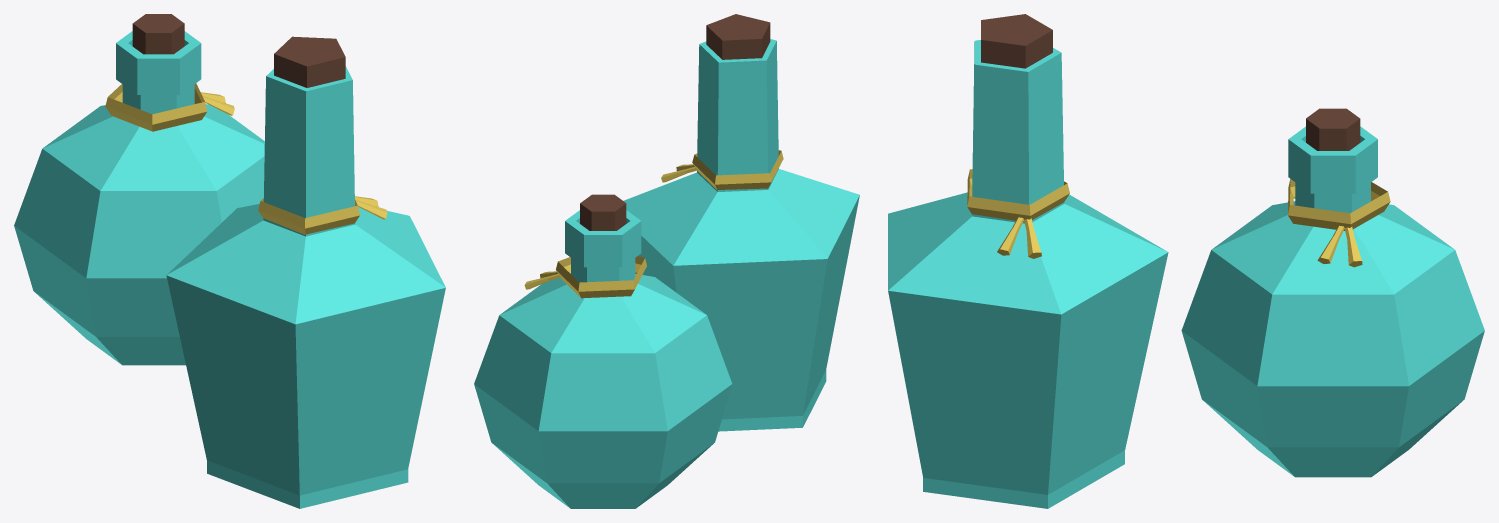
Rendered from Potion.fbx.
3 views of the same model, side by side, from view 1: azimuth 30°, elevation 25°; view 2: azimuth 150°, elevation 25°; view 3: azimuth 270°, elevation 25° (orthographic). The views are drawn at different scales.
Visible parts, largest first — view 1: Circle.001, Sphere, Cylinder.001, Torus.002, Cylinder.002, Torus.001; view 2: Sphere, Circle.001, Cylinder.001, Torus.002, Cylinder.002, Torus.001; view 3: Circle.001, Sphere, Cylinder.001, Torus.002, Cylinder.002, Torus.001.
Boxes of the visible parts, x1,y1,x2,y2 form: Circle.001: [166, 66, 445, 508]; Sphere: [14, 31, 264, 365]; Cylinder.001: [274, 36, 345, 87]; Torus.002: [105, 83, 207, 131]; Cylinder.002: [132, 14, 184, 54]; Torus.001: [258, 198, 359, 234]; Sphere: [474, 210, 732, 508]; Circle.001: [623, 39, 859, 431]; Cylinder.001: [706, 14, 770, 59]; Torus.002: [556, 256, 646, 298]; Cylinder.002: [580, 194, 626, 230]; Torus.001: [692, 150, 783, 190]; Circle.001: [888, 40, 1168, 508]; Sphere: [1181, 126, 1484, 477]; Cylinder.001: [981, 14, 1052, 68]; Torus.002: [1288, 179, 1390, 230]; Cylinder.002: [1306, 108, 1360, 150]; Torus.001: [967, 169, 1069, 221].
Size of the model in its own units: 1.39 by 2.28 by 2.82.
